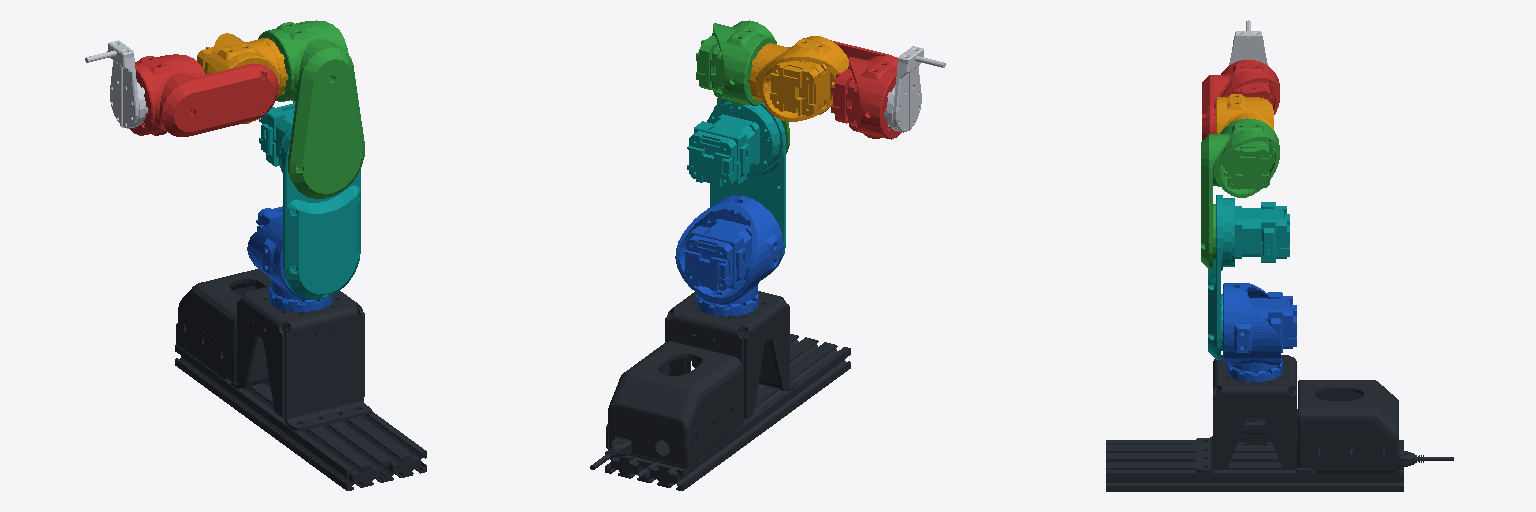
robot.urdf — Assy_6axisArm_v3_export:
<?xml version='1.0' encoding='utf-8'?>
<robot name="Assy_6axisArm_v3_export">
    <link name="BASE">
        <inertial>
            <origin xyz="0.00014028620245360067 0.0189668361568062 0.042709728771082416" rpy="0.0 0.0 0.0" />
            <mass value="4.8462628392536775" />
            <inertia ixx="0.033006108213180466" iyy="0.009411928326058167" izz="0.02951242140490254" ixy="-9.824159081549551e-05" iyz="-0.0012436059756095897" ixz="9.647326911788443e-06" />
        </inertial>
        <visual name="BASE_visual">
            <origin xyz="0.0 0.0 0.0" rpy="0.0 0.0 0.0" />
            <geometry>
                <mesh filename="meshes/BASE.stl" scale="0.001 0.001 0.001" />
            </geometry>
            <material name="base_graphite">
                <color rgba="0.20 0.22 0.25 1.0" />
            </material>
        </visual>
        <collision name="BASE_collision">
            <origin xyz="0.0 0.0 0.0" rpy="0.0 0.0 0.0" />
            <geometry>
                <mesh filename="meshes/BASE.stl" scale="0.001 0.001 0.001" />
            </geometry>
        </collision>
    </link>
    <link name="JOINT1">
        <inertial>
            <origin xyz="1.3370121546484487e-05 -0.0016174683261682215 0.044969611007202044" rpy="0.0 -0.0 0.0" />
            <mass value="1.5673814158149464" />
            <inertia ixx="0.001339643966893532" iyy="0.001338407865528593" izz="0.0011789739120903558" ixy="-7.625677168682176e-07" iyz="5.2234910077286496e-05" ixz="-8.975958604838353e-07" />
        </inertial>
        <visual name="JOINT1_visual">
            <origin xyz="-2.9423628253188576e-16 3.496939454428701e-18 -0.1165" rpy="2.5251741992413217e-17 2.4112755900118755e-15 0.0" />
            <geometry>
                <mesh filename="meshes/JOINT1.stl" scale="0.001 0.001 0.001" />
            </geometry>
            <material name="joint1_blue">
                <color rgba="0.16 0.39 0.78 1.0" />
            </material>
        </visual>
        <collision name="JOINT1_collision">
            <origin xyz="-2.9423628253188576e-16 3.496939454428701e-18 -0.1165" rpy="2.5251741992413217e-17 2.4112755900118755e-15 0.0" />
            <geometry>
                <mesh filename="meshes/JOINT1.stl" scale="0.001 0.001 0.001" />
            </geometry>
        </collision>
    </link>
    <link name="JOINT2">
        <inertial>
            <origin xyz="1.4573641093203915e-05 0.07800879510167139 -0.016121633835417287" rpy="0.0 -0.0 0.0" />
            <mass value="1.4543633396061308" />
            <inertia ixx="0.0031900946992483997" iyy="0.0012496325740022005" izz="0.0028765162713740022" ixy="-1.208202737102955e-06" iyz="0.0007347695175559076" ixz="9.374980798166177e-07" />
        </inertial>
        <visual name="JOINT2_visual">
            <origin xyz="7.179375750762432e-16 -1.5276668818842154e-15 0.00200000000000125" rpy="-3.5232233797089086e-15 2.4364734500394033e-15 1.5707963267948928" />
            <geometry>
                <mesh filename="meshes/JOINT2.stl" scale="0.001 0.001 0.001" />
            </geometry>
            <material name="joint2_teal">
                <color rgba="0.10 0.62 0.62 1.0" />
            </material>
        </visual>
        <collision name="JOINT2_collision">
            <origin xyz="7.179375750762432e-16 -1.5276668818842154e-15 0.00200000000000125" rpy="-3.5232233797089086e-15 2.4364734500394033e-15 1.5707963267948928" />
            <geometry>
                <mesh filename="meshes/JOINT2.stl" scale="0.001 0.001 0.001" />
            </geometry>
        </collision>
    </link>
    <link name="JOINT3">
        <inertial>
            <origin xyz="-0.004126094691703558 0.014053913710910955 0.06268229140589632" rpy="2.1895288505075267e-47 4.379057701015054e-47 -7.919396663683225e-62" />
            <mass value="1.2967387768386907" />
            <inertia ixx="0.002248921529495378" iyy="0.0020059489443028647" izz="0.0010516971950781501" ixy="0.00010871192405927263" iyz="-0.0004985394209371749" ixz="9.305589150396253e-05" />
        </inertial>
        <visual name="JOINT3_visual">
            <origin xyz="1.1280597478113864e-15 -0.002999999999998515 1.6342482922482305e-15" rpy="1.5707963267948992 1.5707963267948901 0" />
            <geometry>
                <mesh filename="meshes/JOINT3.stl" scale="0.001 0.001 0.001" />
            </geometry>
            <material name="joint3_green">
                <color rgba="0.24 0.64 0.30 1.0" />
            </material>
        </visual>
        <collision name="JOINT3_collision">
            <origin xyz="1.1280597478113864e-15 -0.002999999999998515 1.6342482922482305e-15" rpy="1.5707963267948992 1.5707963267948901 0" />
            <geometry>
                <mesh filename="meshes/JOINT3.stl" scale="0.001 0.001 0.001" />
            </geometry>
        </collision>
    </link>
    <link name="JOINT4">
        <inertial>
            <origin xyz="-0.03520207838437657 2.0259227145800196e-05 0.0057677425920910005" rpy="0.0 -0.0 0.0" />
            <mass value="0.9271296568786798" />
            <inertia ixx="0.0005150506044051539" iyy="0.0006162882581331958" izz="0.0006417172543711075" ixy="2.983980033170741e-07" iyz="5.27857812827881e-07" ixz="7.0089739253373e-05" />
        </inertial>
        <visual name="JOINT4_visual">
            <origin xyz="0.4101212954235114 -1.0658141036401502e-15 -3.3306690738754696e-15" rpy="1.570796326794901 -5.0482689317906966e-15 -1.5707963267949054" />
            <geometry>
                <mesh filename="meshes/JOINT4.stl" scale="0.001 0.001 0.001" />
            </geometry>
            <material name="joint4_amber">
                <color rgba="0.86 0.58 0.12 1.0" />
            </material>
        </visual>
        <collision name="JOINT4_collision">
            <origin xyz="0.4101212954235114 -1.0658141036401502e-15 -3.3306690738754696e-15" rpy="1.570796326794901 -5.0482689317906966e-15 -1.5707963267949054" />
            <geometry>
                <mesh filename="meshes/JOINT4.stl" scale="0.001 0.001 0.001" />
            </geometry>
        </collision>
    </link>
    <link name="JOINT5">
        <inertial>
            <origin xyz="0.058216556927179176 1.4101951568505911e-05 -0.013730254036530436" rpy="9.86076131526265e-32 -6.776263578034384e-21 -6.018531076210113e-36" />
            <mass value="1.2543696574264211" />
            <inertia ixx="0.0009605827369947379" iyy="0.0016595983785940155" izz="0.0013647317311182778" ixy="2.819605255701275e-07" iyz="1.8861281117065538e-07" ixz="0.0004222445347034624" />
        </inertial>
        <visual name="JOINT5_visual">
            <origin xyz="-1.7666797742066364e-07 1.7858266772918797e-07 0.004000000263124352" rpy="4.424220131908894e-05 4.4242201307506595e-05 3.1415926535897913" />
            <geometry>
                <mesh filename="meshes/JOINT5.stl" scale="0.001 0.001 0.001" />
            </geometry>
            <material name="joint5_red">
                <color rgba="0.78 0.24 0.24 1.0" />
            </material>
        </visual>
        <collision name="JOINT5_collision">
            <origin xyz="-1.7666797742066364e-07 1.7858266772918797e-07 0.004000000263124352" rpy="4.424220131908894e-05 4.4242201307506595e-05 3.1415926535897913" />
            <geometry>
                <mesh filename="meshes/JOINT5.stl" scale="0.001 0.001 0.001" />
            </geometry>
        </collision>
    </link>
    <link name="JOINT6">
        <inertial>
            <origin xyz="0.015760754788396697 6.975917660334563e-07 -0.010388801100996404" rpy="-7.888609052210118e-31 3.5032461608120435e-46 0.0" />
            <mass value="0.16268769182387013" />
            <inertia ixx="2.7175872092906506e-05" iyy="9.074142026308654e-05" izz="0.00010535820816874947" ixy="-2.81227970044706e-09" iyz="5.543094582798643e-10" ixz="1.2528972359595137e-05" />
        </inertial>
        <visual name="JOINT6_visual">
            <origin xyz="0.008773404041914503 -0.015839984724753026 0.6273118483235984" rpy="3.1415926535897785 -1.1645188648441581e-14 4.424220132170549e-05" />
            <geometry>
                <mesh filename="meshes/JOINT6.stl" scale="0.001 0.001 0.001" />
            </geometry>
            <material name="joint6_light_gray">
                <color rgba="0.78 0.80 0.83 1.0" />
            </material>
        </visual>
        <collision name="JOINT6_collision">
            <origin xyz="0.008773404041914503 -0.015839984724753026 0.6273118483235984" rpy="3.1415926535897785 -1.1645188648441581e-14 4.424220132170549e-05" />
            <geometry>
                <mesh filename="meshes/JOINT6.stl" scale="0.001 0.001 0.001" />
            </geometry>
        </collision>
    </link>
    <joint name="J1" type="revolute">
        <origin xyz="0.0 0.0 0.1165" rpy="0.0 -0.0 0.0" />
        <parent link="BASE" />
        <child link="JOINT1" />
        <axis xyz="0.0 0.0 1.0" />
        <limit lower="-3.141593" upper="3.141593" effort="1000000" velocity="1000000" />
    </joint>
    <joint name="J2" type="revolute">
        <origin xyz="0.0 -0.0325 0.05200000000000001" rpy="1.5707963267948966 -0.0 0.0" />
        <parent link="JOINT1" />
        <child link="JOINT2" />
        <axis xyz="0.0 0.0 1.0" />
        <limit lower="-1.570796" upper="1.570796" effort="1000000" velocity="1000000" />
    </joint>
    <joint name="J3" type="revolute">
        <origin xyz="0.0 0.1 0.006499999999999999" rpy="-1.5707963267948966 7.88860905221012e-31 -3.94430452610506e-31" />
        <parent link="JOINT2" />
        <child link="JOINT3" />
        <axis xyz="-7.888609052210118e-31 -0.9999999999999999 2.007805586832695e-31" />
        <limit lower="-1.570796" upper="1.570796" effort="1000000" velocity="1000000" />
    </joint>
    <joint name="J4" type="revolute">
        <origin xyz="-0.03055033 0.032 0.08" rpy="1.5707963267948966 -3.944304526105059e-31 -1.7516230804060213e-46" />
        <parent link="JOINT3" />
        <child link="JOINT4" />
        <axis xyz="-1.0 7.888609052210118e-31 0.0" />
        <limit lower="-3.141593" upper="3.141593" effort="1000000" velocity="1000000" />
    </joint>
    <joint name="J5" type="revolute">
        <origin xyz="-0.044500000000000005 -1.3500000000021828e-06 0.03055033" rpy="-6.636609519011413e-16 4.424220132668222e-05 3.141592653589793" />
        <parent link="JOINT4" />
        <child link="JOINT5" />
        <axis xyz="-4.424220131224914e-05 4.399999999933634e-05 0.999999999021314" />
        <limit lower="-1.570796" upper="1.570796" effort="1000000" velocity="1000000" />
    </joint>
    <joint name="J6" type="revolute">
        <origin xyz="0.09555170141472691 -1.370000000022742e-06 -0.03099577261272541" rpy="1.5708405689962197 6.636609506021098e-16 -1.5707963267948966" />
        <parent link="JOINT5" />
        <child link="JOINT6" />
        <axis xyz="1.9787967213606655e-30 3.6149931916635785e-15 -1.0" />
        <limit lower="-3.141593" upper="3.141593" effort="1000000" velocity="1000000" />
    </joint>
	
	<link name="tcp"/>
	<joint name="JOINT6_to_tcp" type="fixed">
	  <parent link="JOINT6"/>
	  <child link="tcp"/>
	  <origin xyz="0.05 0.0 -0.049" rpy="0 -3.1416 -3.1416"/>
	 </joint>
</robot>

--- Facts derived from the render (not from the file) ---
Views: 3 orthographic renders of the robot side by side, from view 1: azimuth 30°, elevation 25°; view 2: azimuth 150°, elevation 25°; view 3: azimuth 270°, elevation 25°.
Model Assy_6axisArm_v3_export with 8 links and 7 joints (6 revolute, 1 fixed), rooted at BASE, posed all joints at 0.
Visible links, largest first — view 1: BASE, JOINT3, JOINT2, JOINT5, JOINT1, JOINT4, JOINT6; view 2: BASE, JOINT1, JOINT2, JOINT4, JOINT5, JOINT3, JOINT6; view 3: BASE, JOINT1, JOINT3, JOINT2, JOINT5, JOINT4, JOINT6.
Link boxes in pixels (left/top/right/bottom): BASE: left=175, top=269, right=426, bottom=490; JOINT3: left=258, top=20, right=364, bottom=198; JOINT2: left=259, top=102, right=360, bottom=299; JOINT5: left=130, top=54, right=278, bottom=136; JOINT1: left=247, top=206, right=332, bottom=311; JOINT4: left=197, top=33, right=287, bottom=123; JOINT6: left=85, top=40, right=147, bottom=128; BASE: left=590, top=291, right=850, bottom=490; JOINT1: left=675, top=195, right=783, bottom=316; JOINT2: left=687, top=99, right=785, bottom=261; JOINT4: left=749, top=36, right=848, bottom=121; JOINT5: left=831, top=40, right=901, bottom=139; JOINT3: left=696, top=20, right=789, bottom=153; JOINT6: left=884, top=46, right=945, bottom=132; BASE: left=1106, top=355, right=1453, bottom=491; JOINT1: left=1223, top=283, right=1296, bottom=381; JOINT3: left=1201, top=118, right=1279, bottom=269; JOINT2: left=1208, top=195, right=1289, bottom=359; JOINT5: left=1202, top=59, right=1279, bottom=140; JOINT4: left=1216, top=94, right=1273, bottom=133; JOINT6: left=1229, top=20, right=1267, bottom=64.
Bounding box of the posed robot: 0.2616 × 0.3502 × 0.403 m (x, y, z).
Meshes: 7 distinct files referenced, 7 mesh visuals loaded (7 binary STL).
